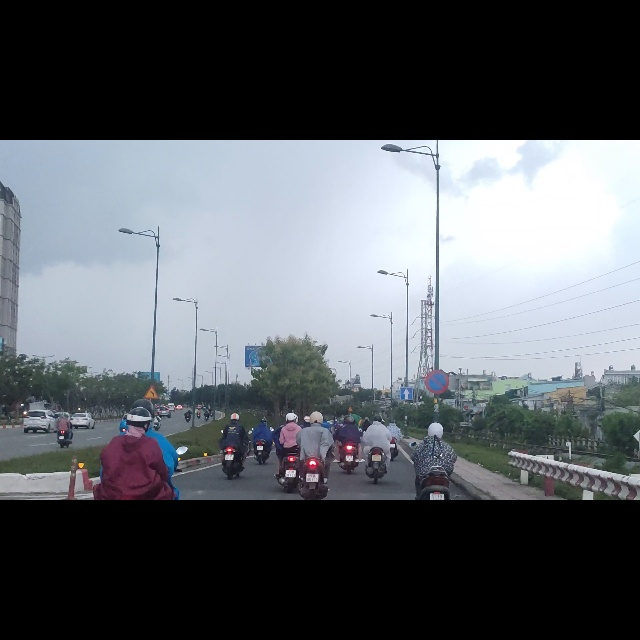bien_nguy_hiem: (425, 409, 449, 450), (145, 436, 159, 461), (400, 440, 413, 463)
